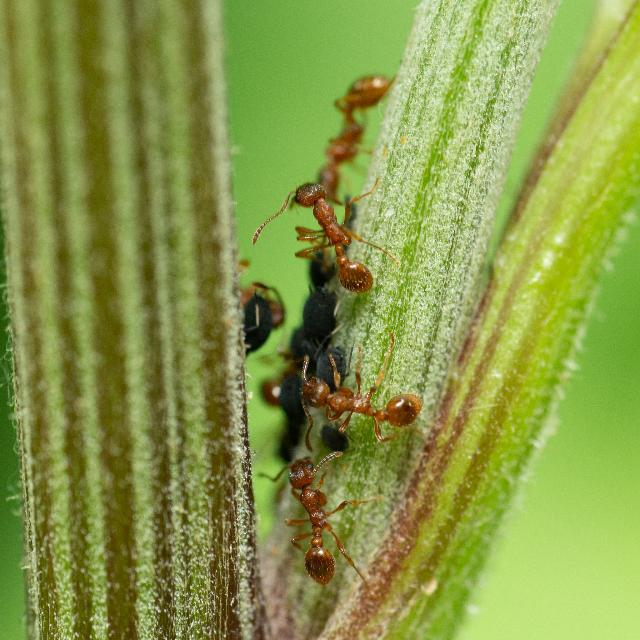Myrmica: (277, 165, 395, 298), (302, 58, 412, 180), (275, 439, 359, 588), (292, 362, 428, 448), (212, 259, 300, 343), (246, 368, 300, 426)
